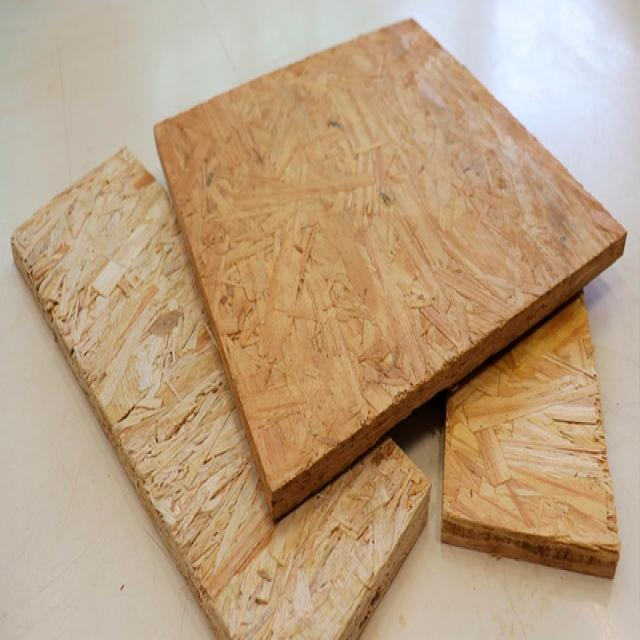green waste: (3, 21, 631, 636)
